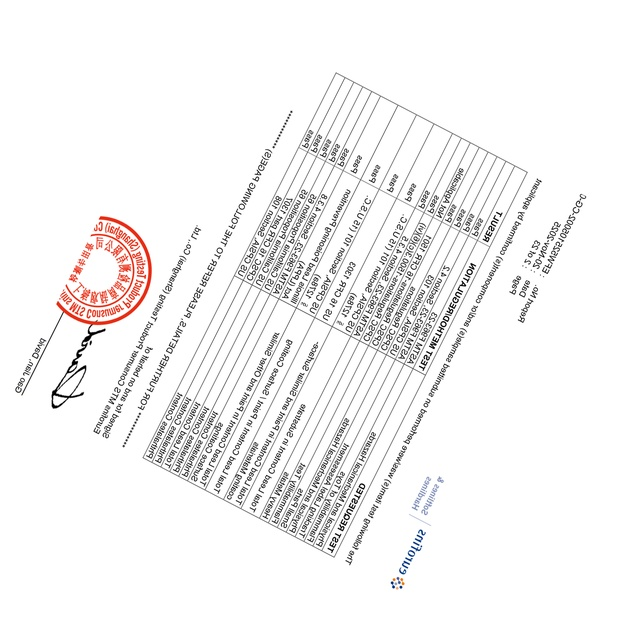eurofins: (390, 527, 427, 595)
